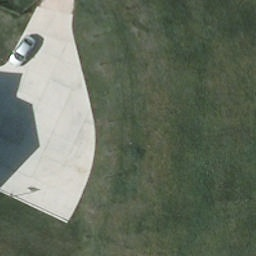car: (7, 34, 38, 71)
